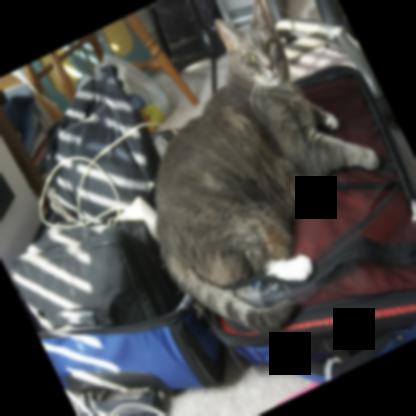handbag: (48, 62, 164, 222)
suitcase: (18, 66, 416, 416)
